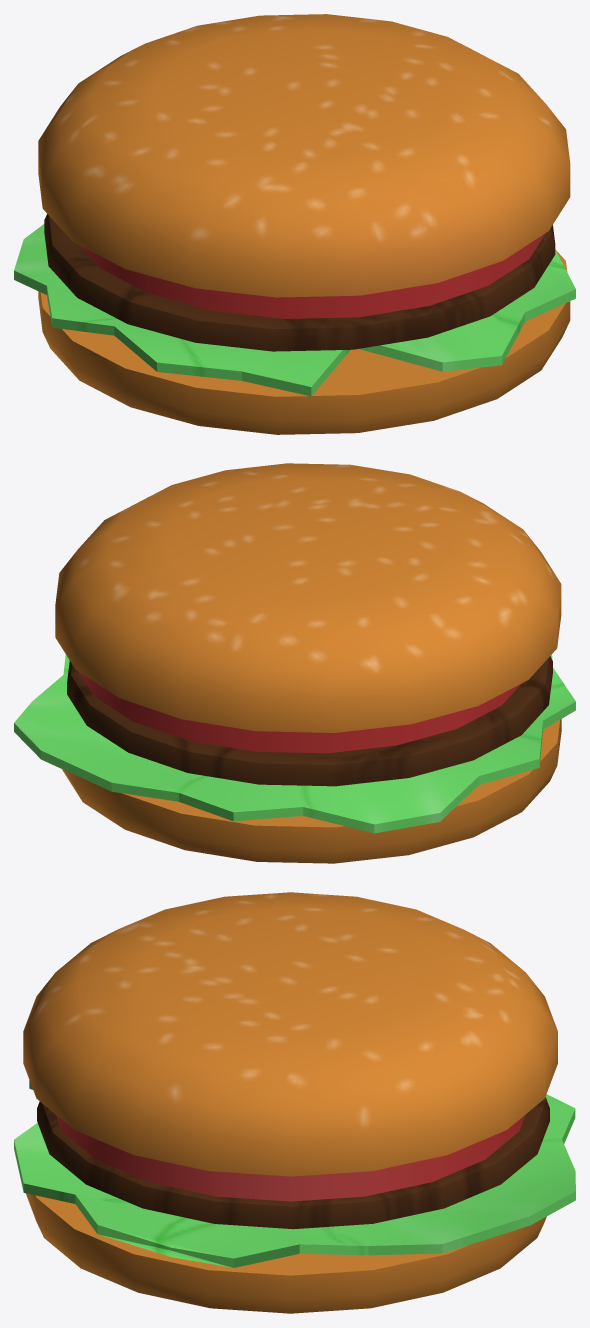
Rendered from hamburger.fbx.
3 views of the same model, one above another, from view 1: azimuth 30°, elevation 25°; view 2: azimuth 150°, elevation 25°; view 3: azimuth 270°, elevation 25° (orthographic). The views are drawn at different scales.
Visible parts, largest first — view 1: pCylinder5; view 2: pCylinder5; view 3: pCylinder5.
Boxes of the visible parts, <box> form: pCylinder5: <box>14,14,575,434</box>; pCylinder5: <box>14,463,575,863</box>; pCylinder5: <box>14,892,575,1313</box>.
Size of the model in its own units: 107 by 50.46 by 105.
Materials: 1 (1 with a texture image).
